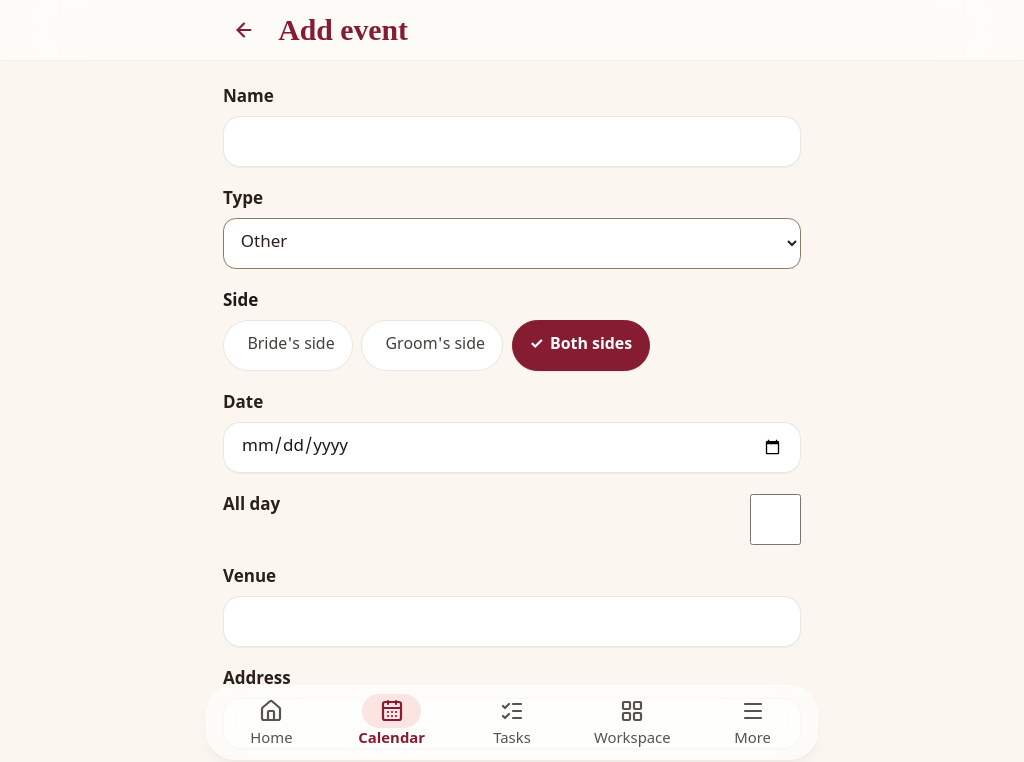
Test case: Event form › same type on the same day → Add anyway; server field errors show
Type "Haldi (groom)" into the field labelled "Name" at (512, 141), box [223,116,801,167]
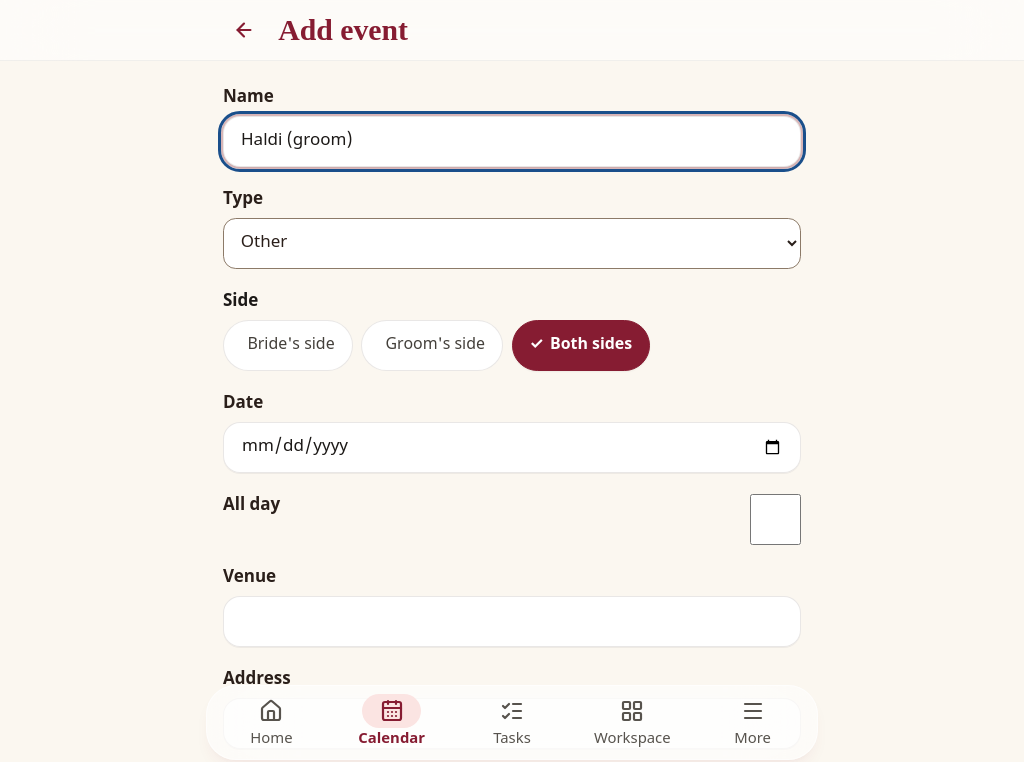
Select "Haldi" in the dropdown labelled "Type" at (512, 243), box [223,218,801,269]
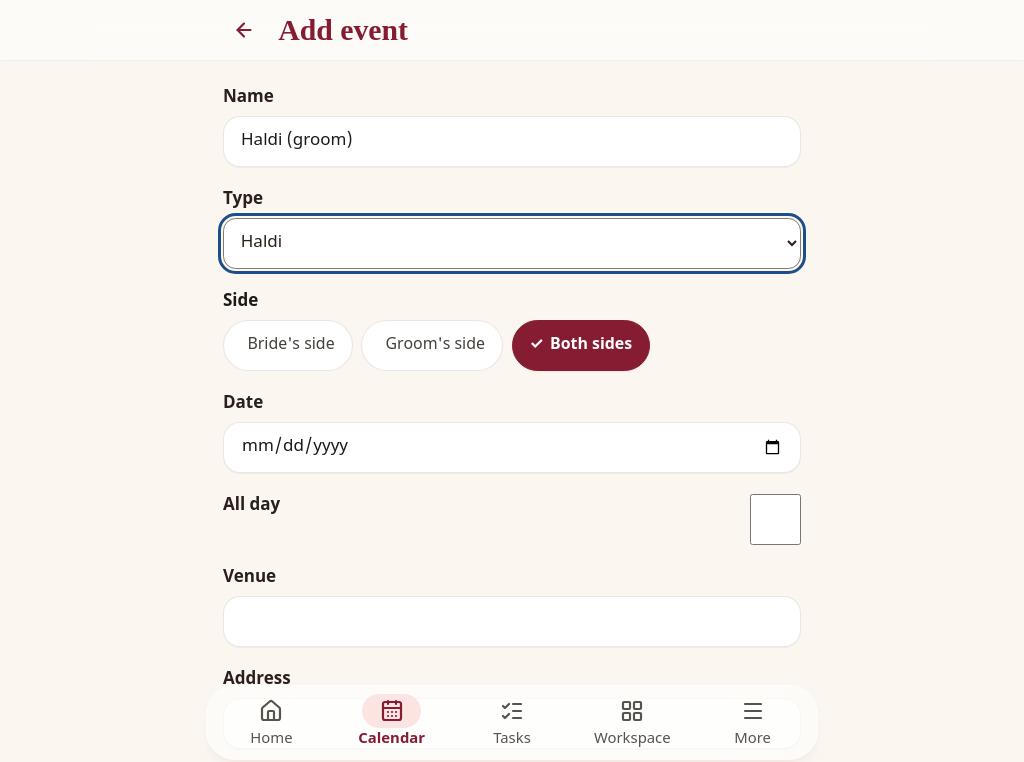
Type "2027-02-13" into the date field labelled "Date" at (512, 447), box [223,422,801,473]
(page scrolled)
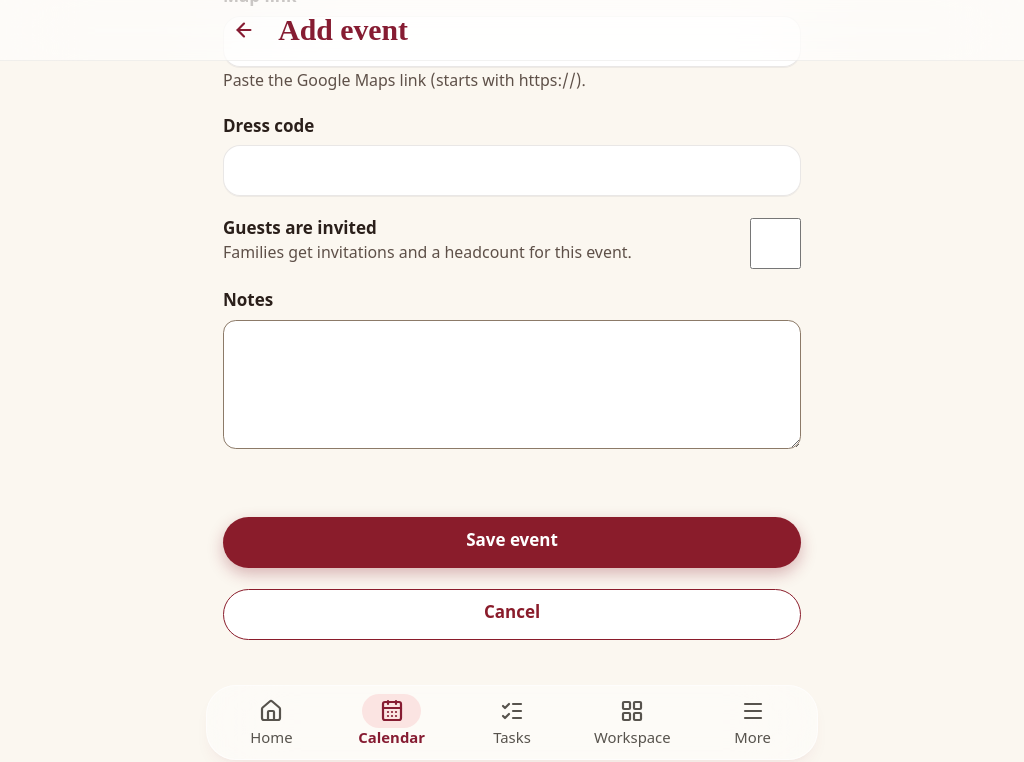
Click the button "Save event" at (512, 543), box [223,517,801,568]
(page scrolled)
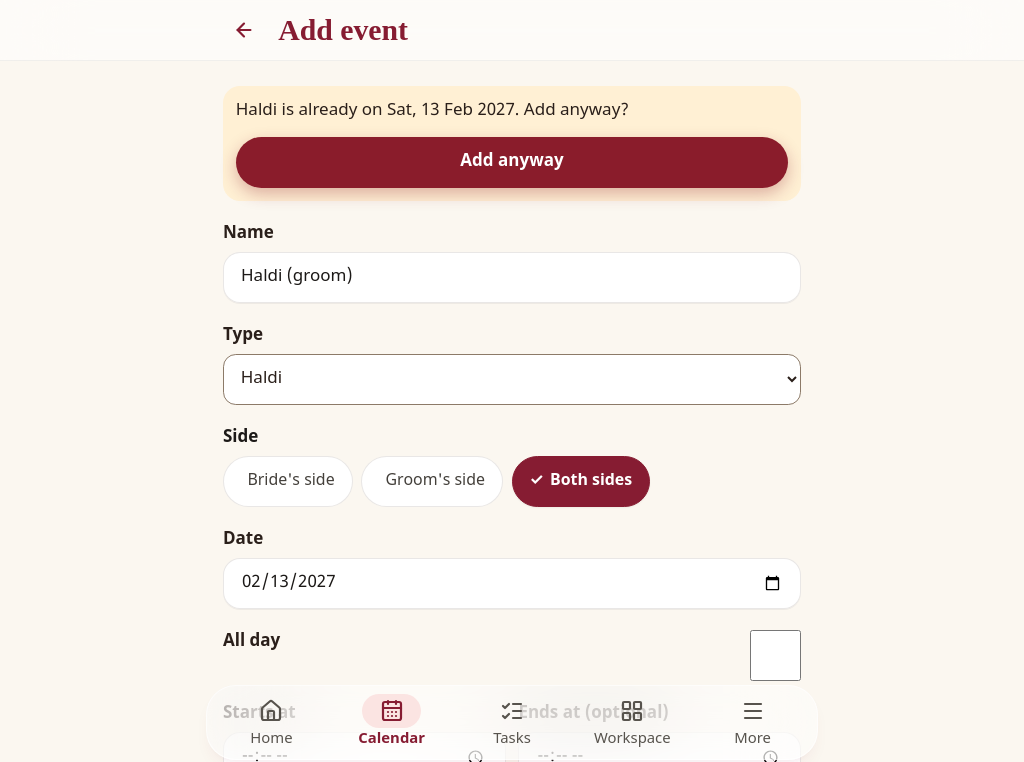
Expected: the text "Haldi is already on Sat, 13 Feb 2027. Add anyway?" is shown, [236,100,629,122]
Click the button "Add anyway" at (512, 162), box [236,137,788,188]
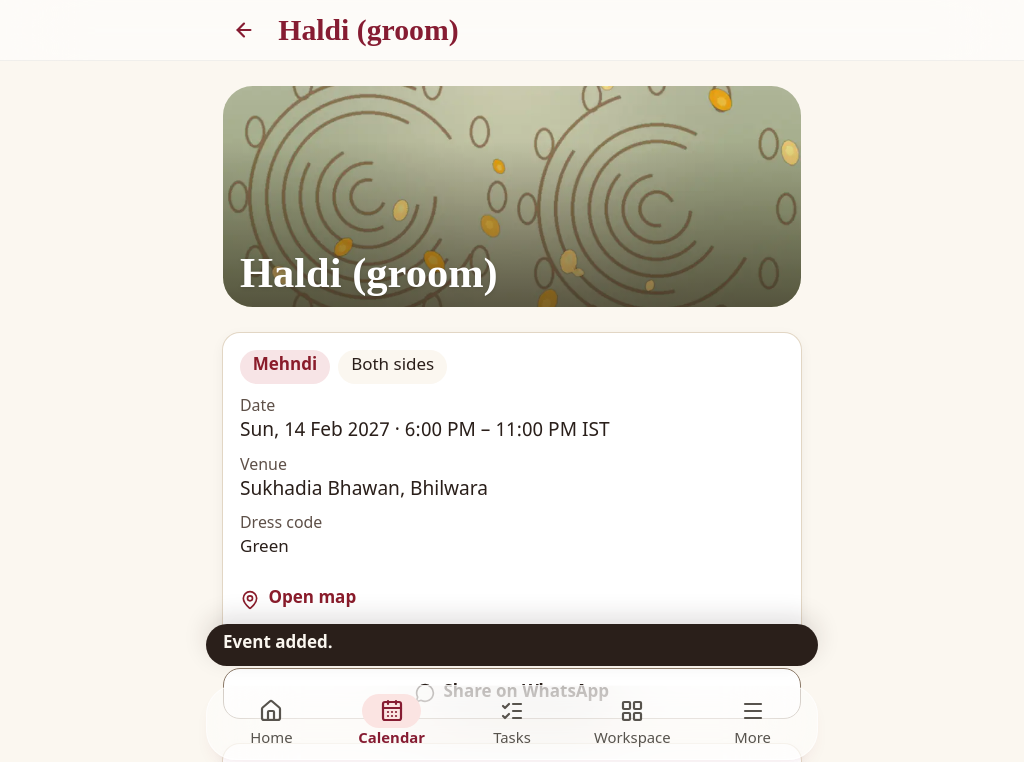
Expected: the heading "Haldi (groom)" is shown, [278,13,459,46]
